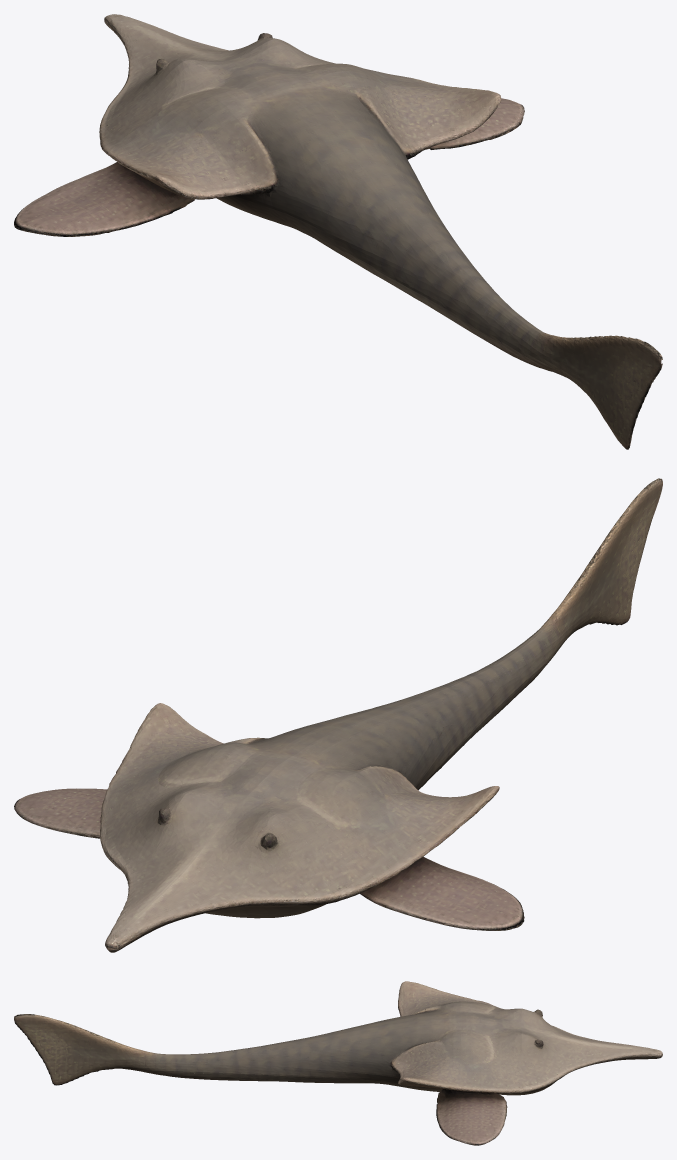
File: model-v1255599feeb7.glb
3 views of the same model, one above another, from view 1: azimuth 30°, elevation 25°; view 2: azimuth 150°, elevation 25°; view 3: azimuth 270°, elevation 25° (orthographic). The views are drawn at different scales.
Parts seen in each view (by area): view 1: world; view 2: world; view 3: world.
Part boxes in pixels (box(x1,y1,x2,y2)): world: box(14, 14, 662, 449); world: box(14, 478, 662, 952); world: box(14, 981, 662, 1145).
Size of the model in its own units: 0.5273 by 0.1212 by 1.
1 material, 1 textured.
